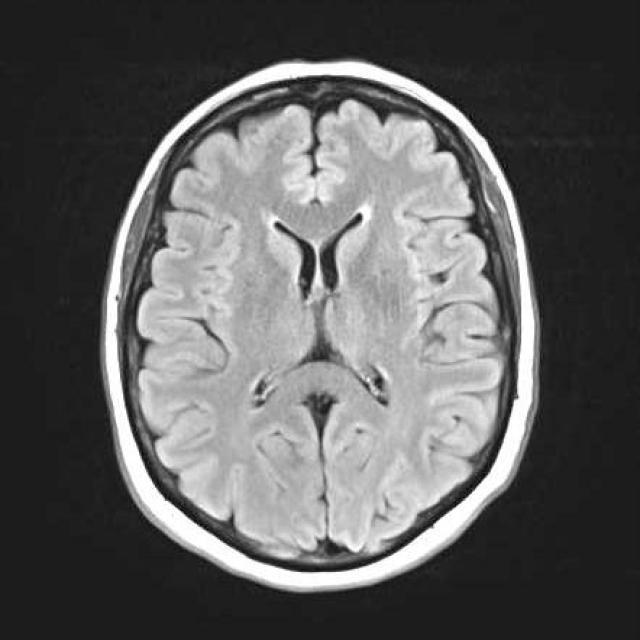No_Tumor: (103, 61, 538, 591)
